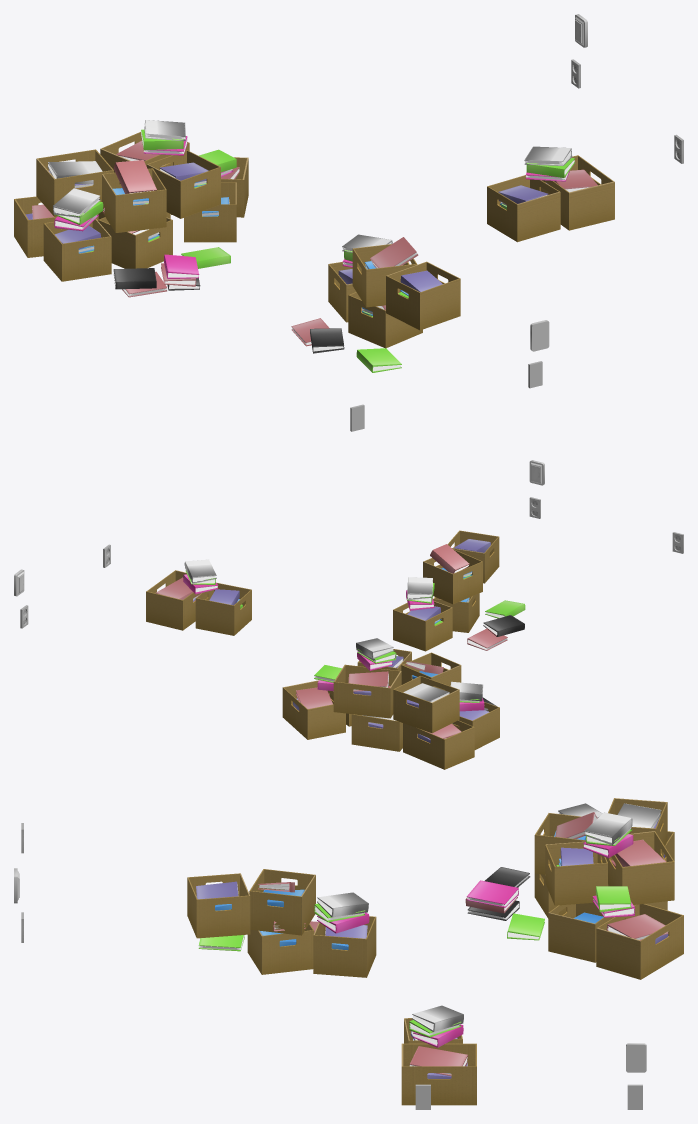
Rendered from Room15Set2.FBX.
The picture shows the model from 3 angles, top to bottom: view 1: azimuth 30°, elevation 25°; view 2: azimuth 150°, elevation 25°; view 3: azimuth 270°, elevation 25°; orthographic projection. The views are drawn at different scales.
Visible parts, largest first — view 1: Box670, Box658, Box590, Box628, Box608, Box659, Box570, Box629, Box630, Box607, Box649, Box571 (+14 smaller); view 2: Box629, Box609, Box571, Box598, Box670, Box642, Box649, Box659, Box591, Box658, Box608, Box590 (+12 smaller); view 3: Box598, Box659, Box649, Box658, Box609, Box628, Box642, Box607, Box630, Box608, Box626, Box594 (+19 smaller).
Boxes of the visible parts, x1,y1,x2,y2 form: Box670: (487,175,560,242); Box658: (386,261,460,330); Box590: (43,219,111,281); Box628: (146,150,220,218); Box608: (102,168,166,232); Box659: (540,155,614,230); Box570: (98,217,172,268); Box629: (36,149,113,216); Box630: (348,292,422,348); Box607: (184,182,236,242); Box649: (352,244,417,307); Box571: (14,196,98,257); Box629: (393,676,459,733); Box609: (333,664,401,718); Box571: (403,720,474,769); Box598: (282,680,345,739); Box670: (195,582,251,635); Box642: (393,601,452,651); Box649: (423,549,482,604); Box659: (146,570,207,630); Box591: (351,714,402,751); Box658: (447,530,499,583); Box608: (401,652,461,690); Box590: (452,702,499,749); Box598: (596,904,683,979); Box659: (401,1043,476,1105); Box649: (249,869,315,935); Box658: (187,873,250,938); Box609: (602,831,674,904); Box628: (545,841,607,905); Box642: (313,916,376,977); Box607: (548,902,613,962); Box630: (247,923,314,974); Box608: (534,813,585,874); Box626: (584,812,632,845); Box594: (466,880,518,907).
Bounding box in the file's own units: 77.43 × 13.84 × 77.79.
